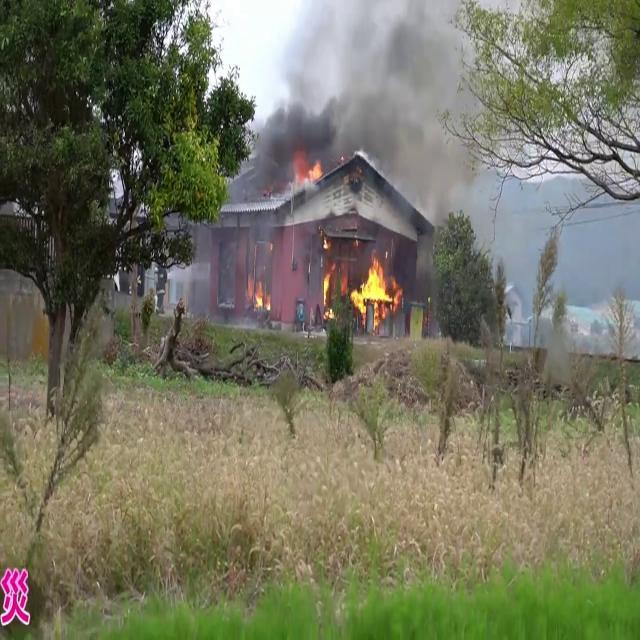Fire: (348, 250, 401, 322)
Smoke: (238, 0, 508, 210)
